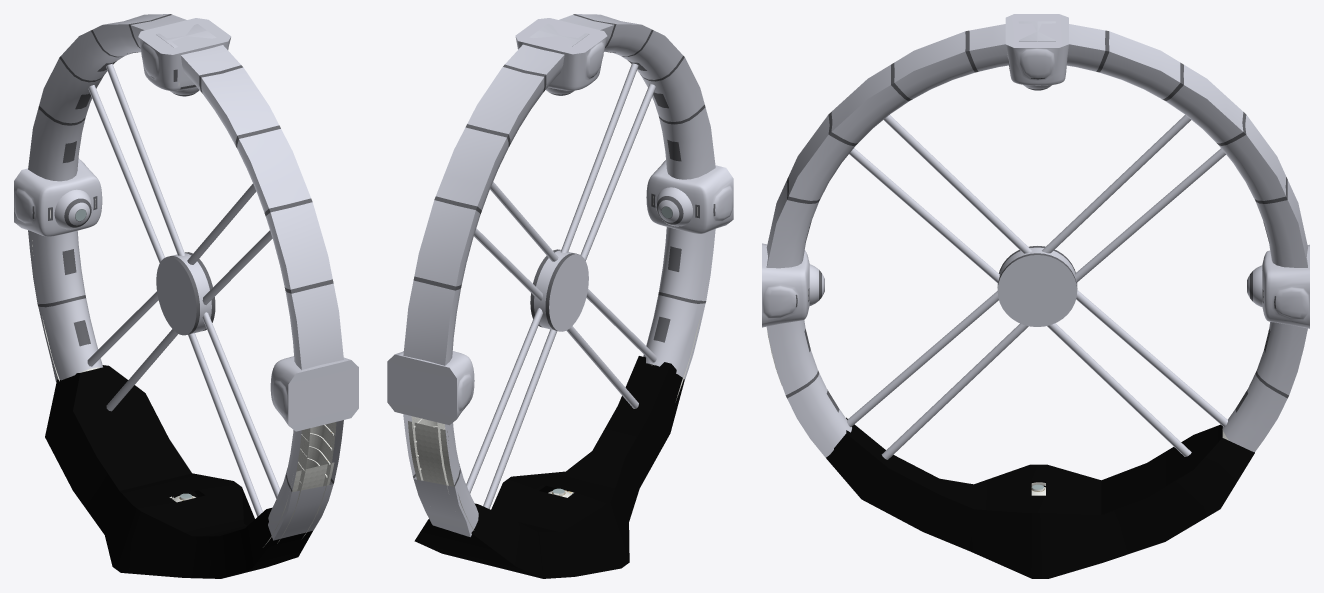
File: Ring1.5.fbx
The picture shows the model from 3 angles, left to right: view 1: azimuth 30°, elevation 25°; view 2: azimuth 150°, elevation 25°; view 3: azimuth 270°, elevation 25°; orthographic projection.
Parts seen in each view (by area): view 1: Station, LightCover, StationArms, MuseumWhole, FloorOfflimits; view 2: Station, LightCover, StationArms, FloorOfflimits, MuseumWhole; view 3: Station, LightCover, StationArms.
Part boxes in pixels (x1,y1,x2,y2): Station: [14, 14, 358, 540]; LightCover: [45, 365, 312, 578]; StationArms: [87, 63, 280, 516]; MuseumWhole: [80, 367, 336, 543]; FloorOfflimits: [32, 240, 334, 547]; Station: [387, 14, 733, 537]; LightCover: [414, 356, 684, 578]; StationArms: [466, 63, 656, 508]; FloorOfflimits: [408, 283, 706, 530]; MuseumWhole: [411, 364, 654, 497]; Station: [762, 14, 1309, 457]; LightCover: [826, 417, 1254, 578]; StationArms: [847, 115, 1227, 459].
Size of the model in its own units: 4698 by 16409 by 15872.
